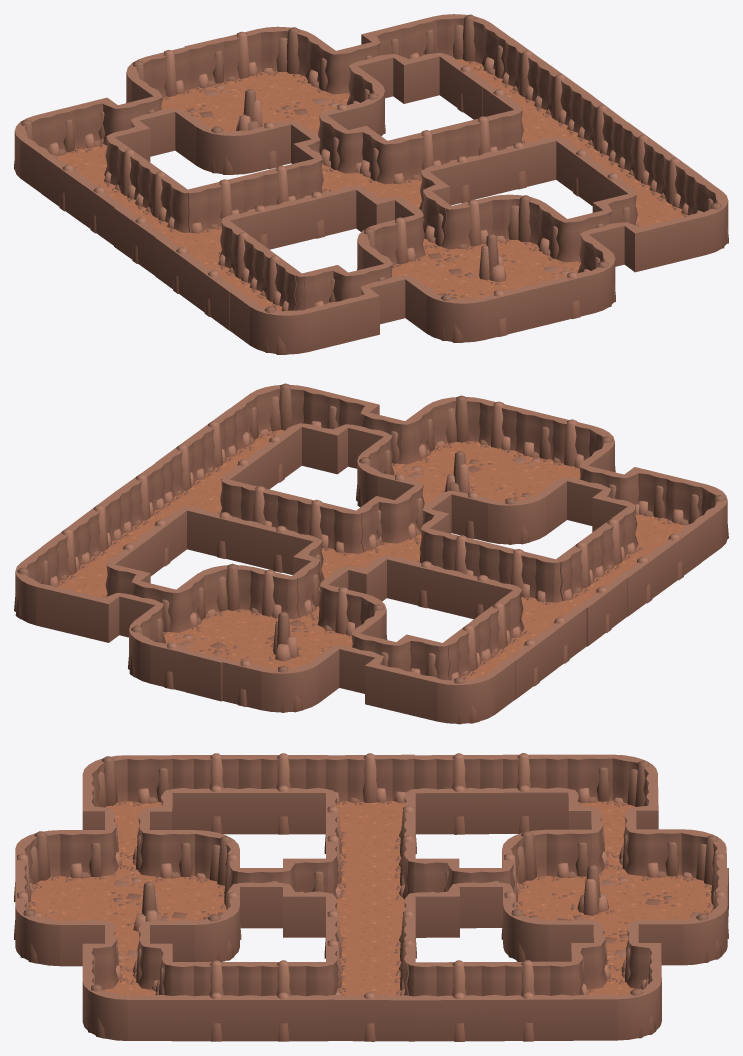
File: map.glb
3 renders of one model, top to bottom at view 1: azimuth 30°, elevation 25°; view 2: azimuth 150°, elevation 25°; view 3: azimuth 270°, elevation 25°, orthographic. The views are drawn at different scales.
Visible parts, largest first — view 1: room-large, room-large.001, corridor-wide, corridor-wide-corner.001, corridor-wide.001, corridor-wide.002, corridor-transition.001, corridor-wide.003, corridor-transition.007, corridor-wide-corner.002, corridor-transition, corridor-transition.004 (+17 smaller); view 2: room-large.001, room-large, corridor-wide, corridor-wide-corner.003, corridor-wide.003, corridor-wide.002, corridor-wide.001, corridor-transition.007, corridor-transition.001, corridor-wide-corner, corridor-transition, corridor-transition.003 (+18 smaller); view 3: room-large.001, room-large, corridor-wide.006, corridor-wide.010, corridor-wide.008, corridor-wide.004, corridor-transition.004, corridor-transition.003, corridor-wide-junction, corridor-wide.007, corridor-wide.005, corridor-wide.011 (+15 smaller).
Boxes of the visible parts, box(x1,y1,x2,y2) form: room-large: box(357, 194, 615, 342); room-large.001: box(126, 26, 385, 174); corridor-wide: box(253, 159, 356, 245); corridor-wide-corner.001: box(229, 273, 344, 354); corridor-wide.001: box(387, 123, 502, 205); corridor-wide.002: box(187, 172, 299, 254); corridor-transition.001: box(302, 264, 405, 342); corridor-wide.003: box(445, 109, 558, 196); corridor-transition.007: box(72, 96, 175, 169); corridor-wide-corner.002: box(397, 14, 511, 82); corridor-transition: box(568, 193, 671, 272); corridor-transition.004: box(290, 114, 387, 192); room-large.001: box(128, 563, 387, 712); room-large: box(356, 395, 615, 544); corridor-wide: box(387, 528, 501, 615); corridor-wide-corner.003: box(400, 643, 515, 724); corridor-wide.003: box(186, 479, 295, 566); corridor-wide.002: box(443, 546, 556, 623); corridor-wide.001: box(241, 493, 355, 574); corridor-transition.007: box(339, 633, 441, 712); corridor-transition.001: box(567, 465, 670, 538); corridor-wide-corner: box(229, 383, 343, 465); corridor-transition: box(301, 396, 404, 474); corridor-transition.003: box(356, 485, 451, 562); room-large.001: box(501, 829, 728, 965); room-large: box(14, 830, 241, 966); corridor-wide.006: box(171, 960, 261, 1041); corridor-wide.010: box(414, 960, 504, 1041); corridor-wide.008: box(414, 753, 504, 834); corridor-wide.004: box(171, 753, 261, 834); corridor-transition.004: box(414, 858, 504, 937); corridor-transition.003: box(238, 858, 327, 937); corridor-wide-junction: box(325, 753, 416, 834); corridor-wide.007: box(238, 960, 328, 1041); corridor-wide.005: box(238, 753, 328, 834); corridor-wide.011: box(483, 960, 573, 1041).
Size of the model in its own units: 51.93 by 4.4 by 63.66.
32 materials, 31 textured.
